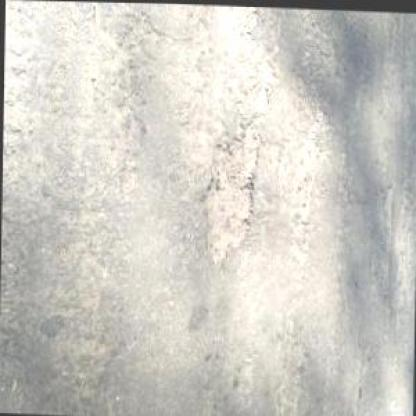pothole: (198, 116, 262, 265)
